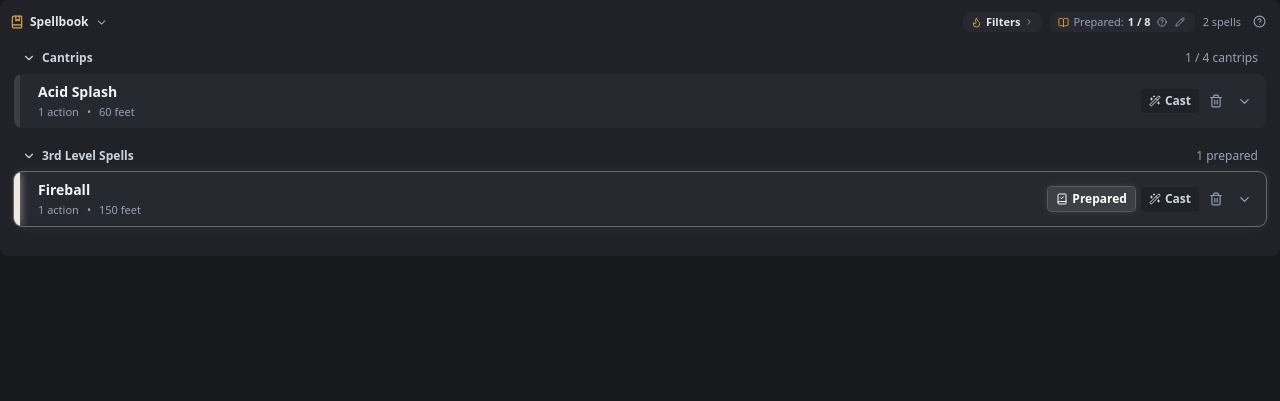
Scenario: SpellbookView › shows spell classes in expanded spellbook card detail view
Click the text "Fireball" at (64, 190), box [38,180,90,200]
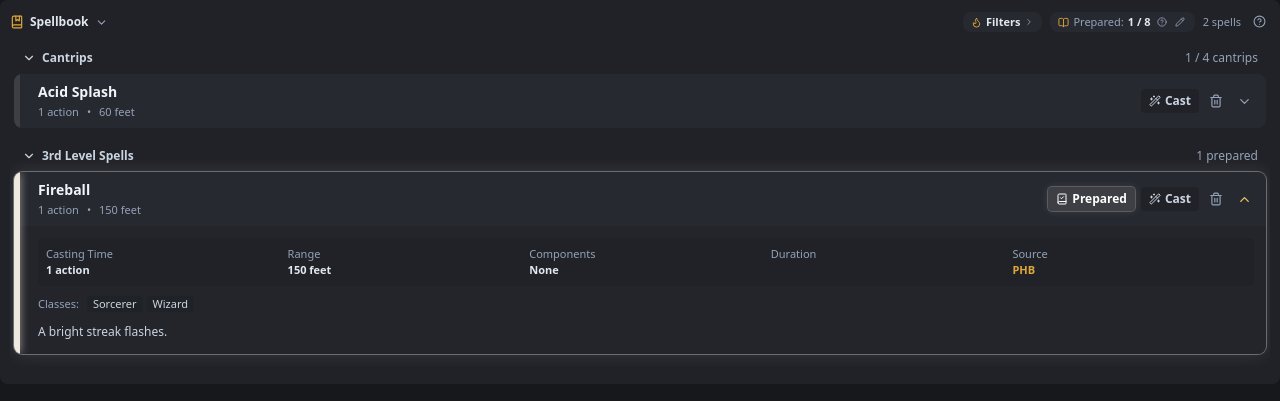
Check: the text "Classes:" is shown, box [38,296,79,312]
Check: the text "Sorcerer" is shown, box [87,296,142,312]
Check: the text "Wizard" is shown, box [146,296,194,312]
